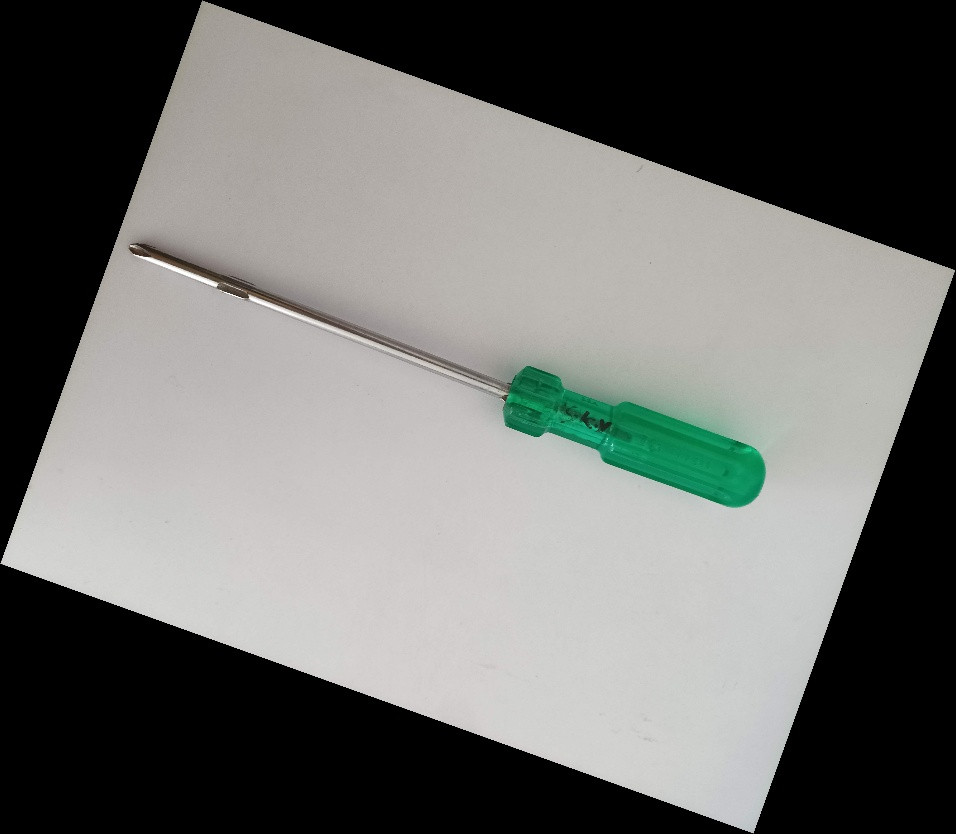screwdriver: (125, 239, 769, 510)
